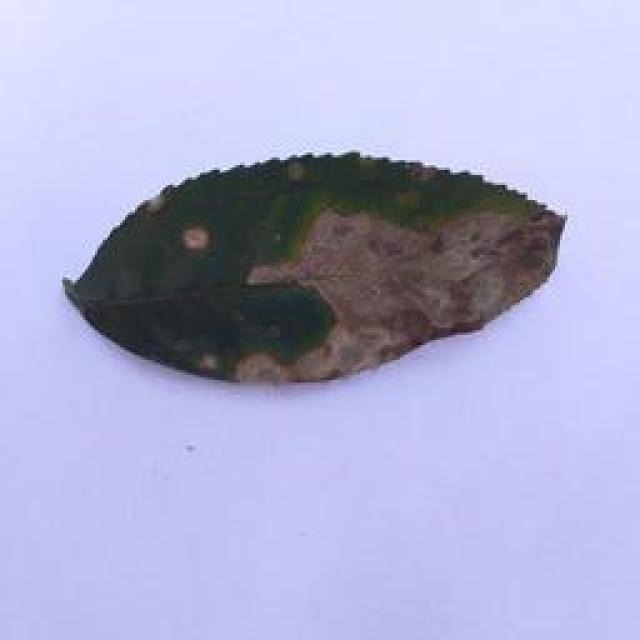Gray Blight: (59, 148, 572, 394)
